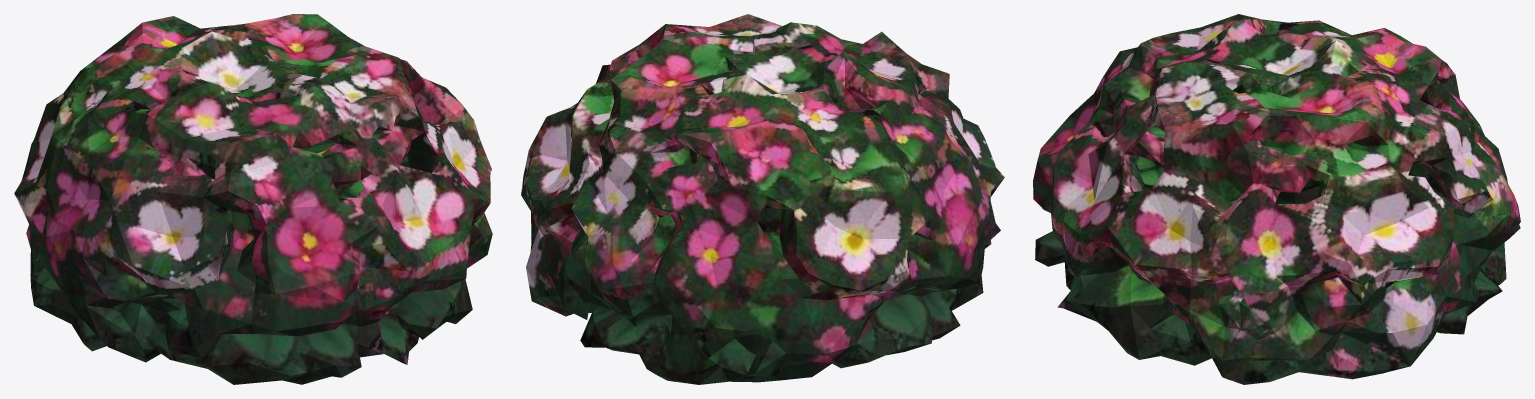
The model's file is koy_cali.glb.
3 views of the same model, side by side, from view 1: azimuth 30°, elevation 25°; view 2: azimuth 150°, elevation 25°; view 3: azimuth 270°, elevation 25° (orthographic).
Parts seen in each view (by area): view 1: geometry_0; view 2: geometry_0; view 3: geometry_0.
Part boxes in pixels (box(x1,y1,x2,y2)): geometry_0: box(14, 14, 492, 384); geometry_0: box(521, 14, 1004, 384); geometry_0: box(1033, 14, 1520, 384).
Size of the model in its own units: 0.9828 by 0.5701 by 1.01.
1 material, 1 textured.
